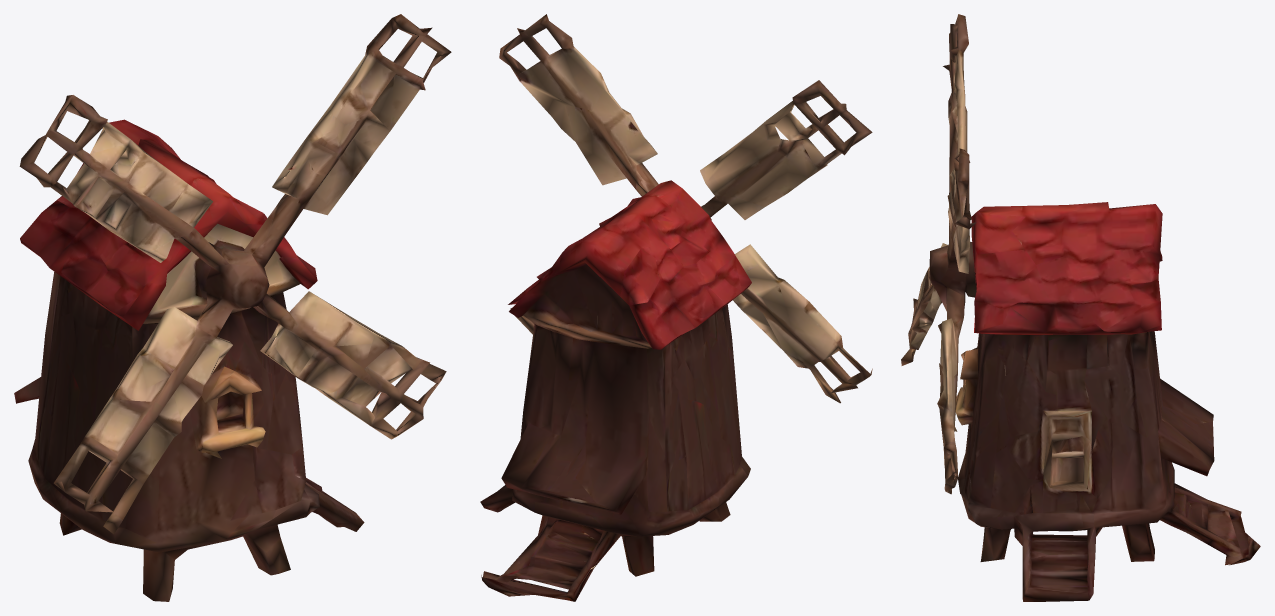
The model's file is windmill.glb.
3 renders of one model, left to right at view 1: azimuth 30°, elevation 25°; view 2: azimuth 150°, elevation 25°; view 3: azimuth 270°, elevation 25°, orthographic. The views are drawn at different scales.
Parts seen in each view (by area): view 1: tripo_node_7e5729bd-f46f-45c8-99f7-0a96b38475fa; view 2: tripo_node_7e5729bd-f46f-45c8-99f7-0a96b38475fa; view 3: tripo_node_7e5729bd-f46f-45c8-99f7-0a96b38475fa.
Part boxes in pixels (<box>): tripo_node_7e5729bd-f46f-45c8-99f7-0a96b38475fa: <box>14,14,451,601</box>; tripo_node_7e5729bd-f46f-45c8-99f7-0a96b38475fa: <box>480,14,872,601</box>; tripo_node_7e5729bd-f46f-45c8-99f7-0a96b38475fa: <box>901,14,1260,601</box>.
Size of the model in its own units: 0.8303 by 0.9789 by 0.6996.
Materials: 1 (1 with a texture image).
